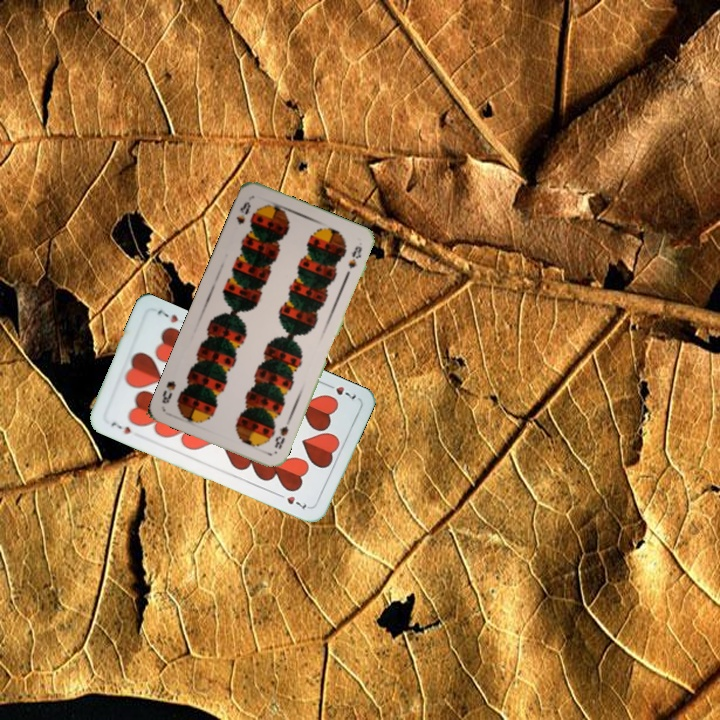H7: (322, 379, 359, 402), (107, 418, 134, 437)
S8: (270, 415, 293, 452), (232, 198, 253, 227)
